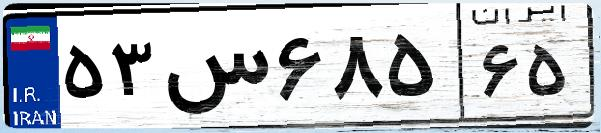3: (110, 28, 158, 98)
5: (385, 28, 445, 110), (57, 26, 110, 100), (525, 38, 570, 115)
6: (270, 28, 330, 110), (475, 38, 525, 113)
8: (330, 28, 385, 110)
س: (158, 20, 270, 120)
